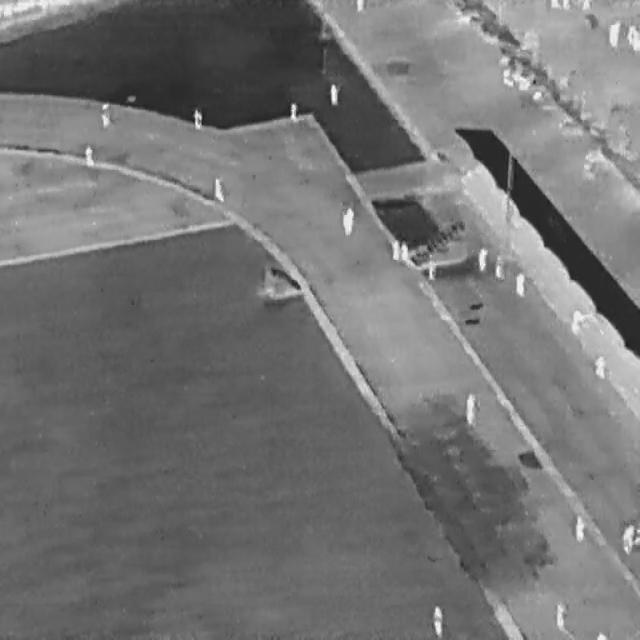DontCare: (497, 50, 543, 102)
Person: (605, 18, 622, 52), (621, 522, 634, 554), (342, 206, 354, 234), (464, 392, 475, 422), (626, 24, 638, 50), (432, 605, 442, 636), (595, 352, 606, 378), (100, 101, 110, 129), (555, 601, 565, 629), (427, 252, 437, 280), (214, 176, 224, 202), (575, 514, 584, 541), (494, 254, 504, 278), (515, 272, 524, 296), (478, 246, 487, 270), (84, 145, 94, 166), (192, 108, 202, 128), (400, 240, 408, 260), (391, 238, 399, 258), (330, 82, 337, 104), (290, 101, 297, 120), (595, 630, 606, 639), (355, 0, 364, 9)
